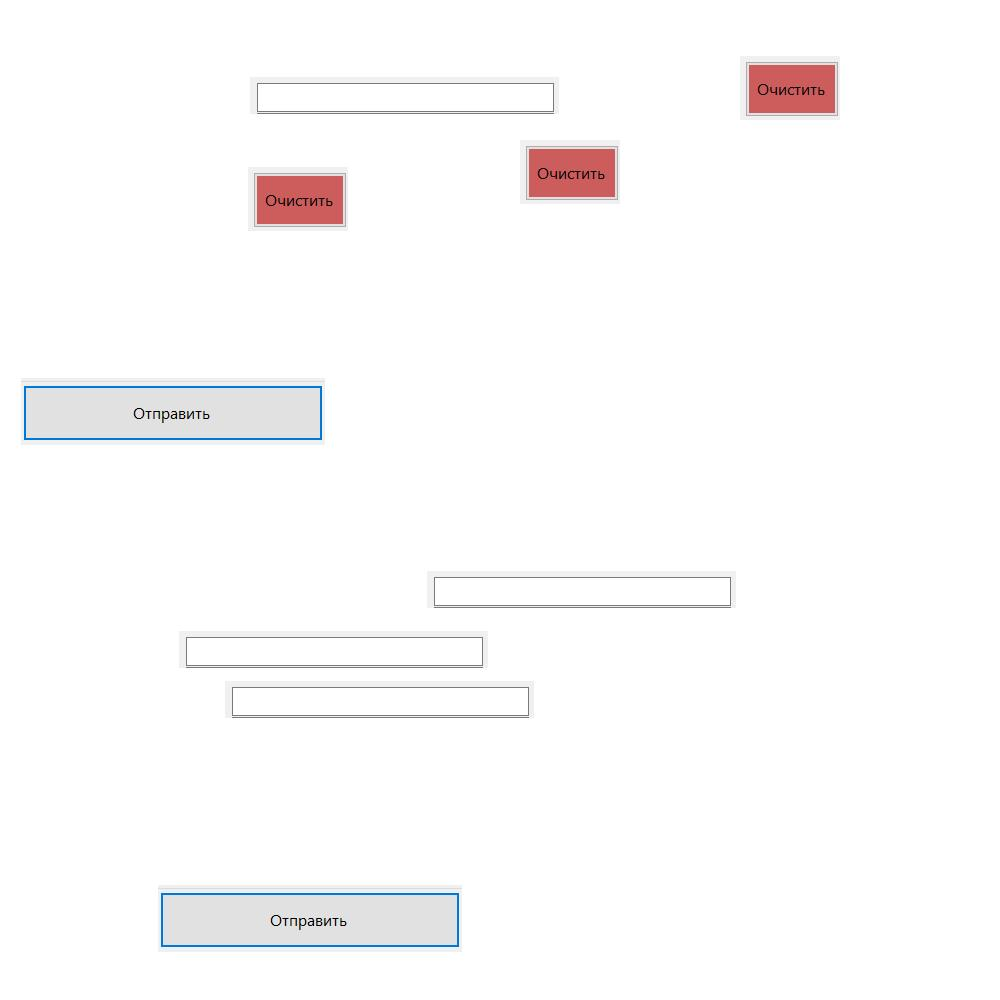Button: (158, 885, 462, 952), (21, 378, 325, 445), (520, 140, 620, 204), (248, 167, 348, 231), (740, 56, 840, 120)
EditText-: (250, 77, 559, 114), (427, 571, 736, 608), (225, 681, 534, 718), (179, 631, 488, 668)
